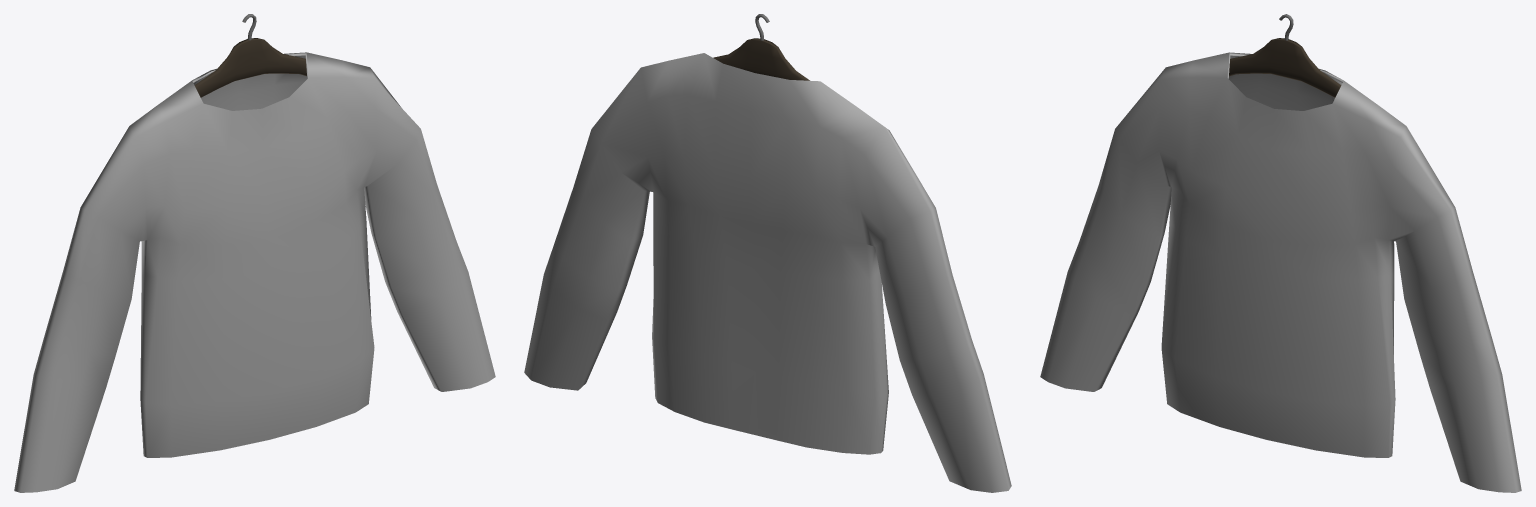
File: Hanger1.fbx
3 renders of one model, left to right at view 1: azimuth 30°, elevation 25°; view 2: azimuth 150°, elevation 25°; view 3: azimuth 330°, elevation 25°, orthographic.
Parts seen in each view (by area): view 1: LongSleeves, pCube23; view 2: LongSleeves, pCube23; view 3: LongSleeves, pCube23.
Boxes of the visible parts, x1=… form: LongSleeves: x1=14, y1=52, x2=495, y2=492; pCube23: x1=194, y1=38, x2=306, y2=97; LongSleeves: x1=524, y1=53, x2=1011, y2=492; pCube23: x1=713, y1=38, x2=809, y2=80; LongSleeves: x1=1040, y1=52, x2=1521, y2=492; pCube23: x1=1229, y1=38, x2=1341, y2=97.
Size of the model in its own units: 78.2 by 65.27 by 10.33.
